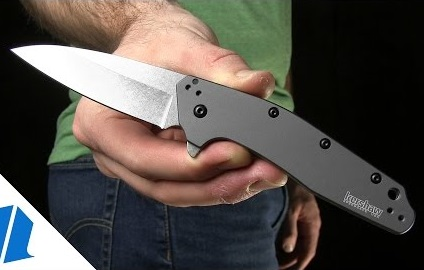knife: (8, 39, 302, 207)
